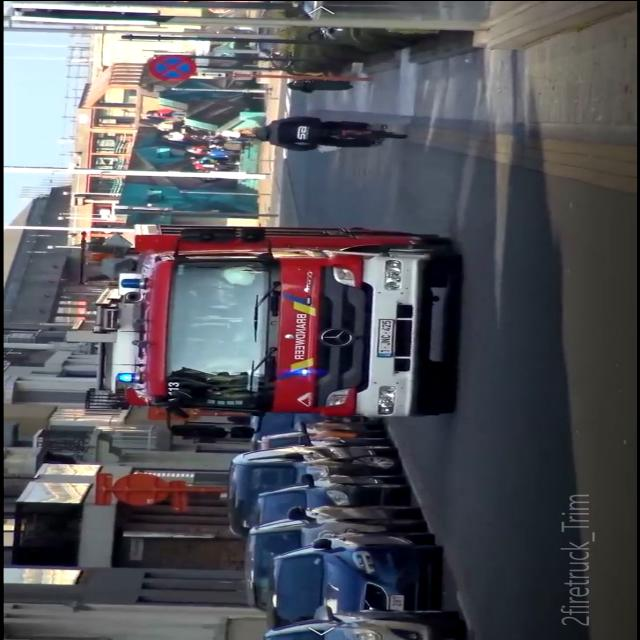emergency: (88, 221, 472, 423)
